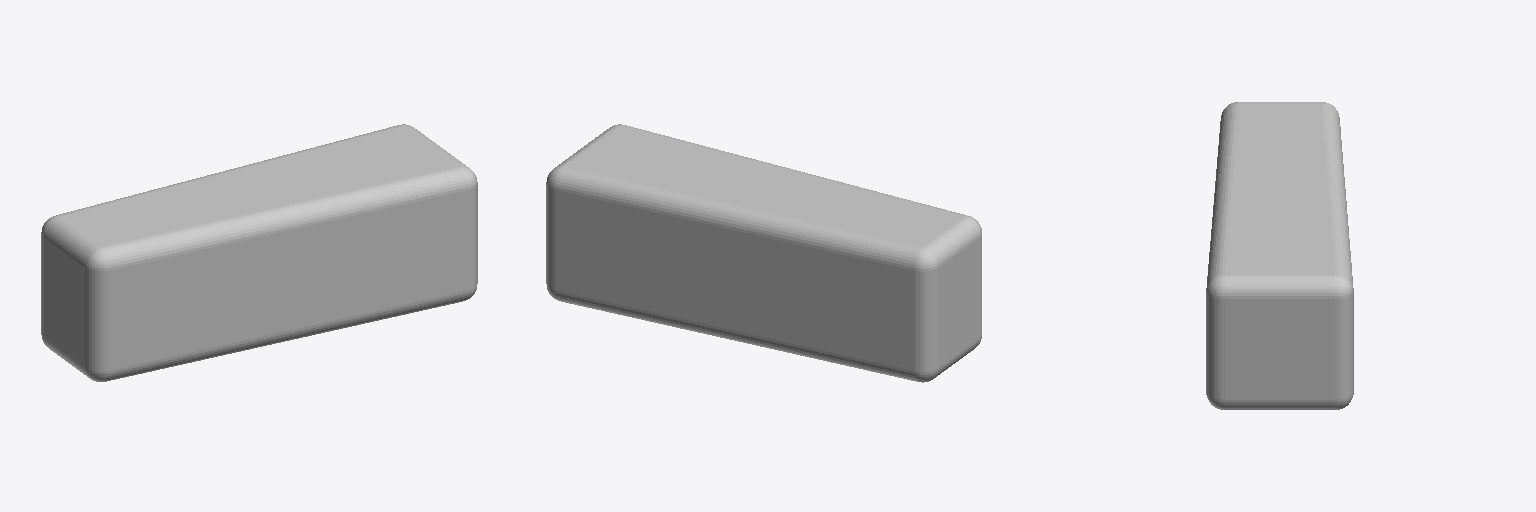
File: BevelRectangle.obj
3 views of the same model, side by side, from view 1: azimuth 30°, elevation 25°; view 2: azimuth 150°, elevation 25°; view 3: azimuth 270°, elevation 25° (orthographic).
Visible parts, largest first — view 1: Cube; view 2: Cube; view 3: Cube.
Boxes of the visible parts, box(x1,y1,x2,y2) form: Cube: box(41, 124, 477, 381); Cube: box(546, 124, 981, 382); Cube: box(1206, 102, 1353, 409).
Size of the model in its own units: 5.99 by 2 by 2.